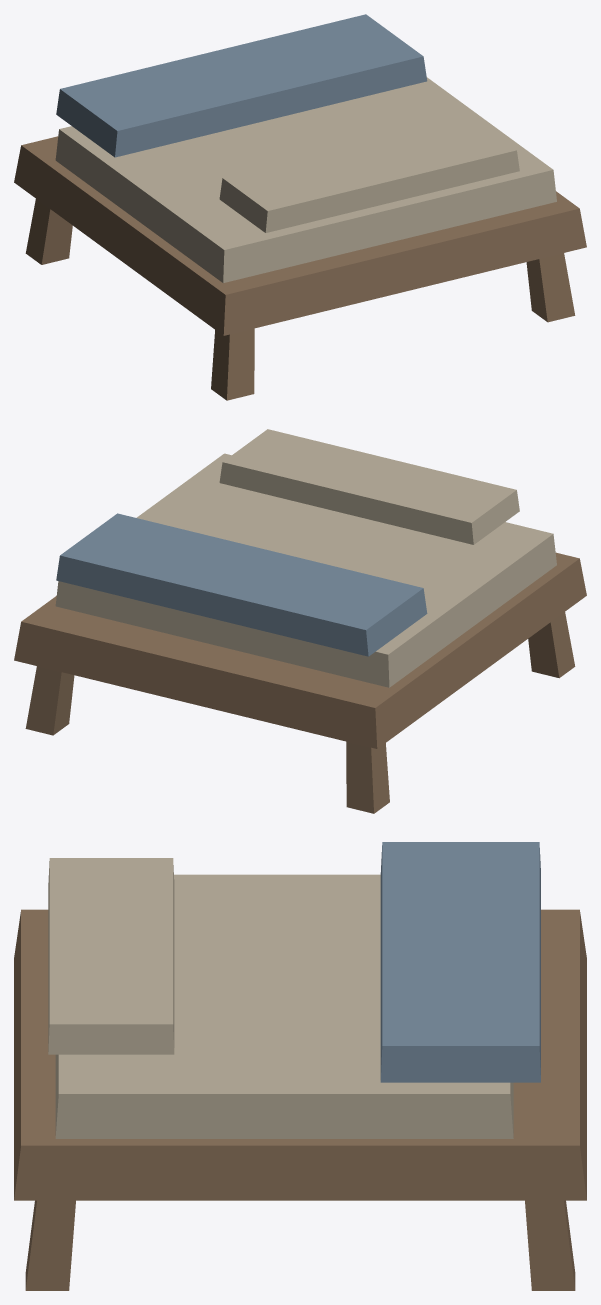
Rendered from basicbed_double_refined.glb.
3 renders of one model, top to bottom at view 1: azimuth 30°, elevation 25°; view 2: azimuth 150°, elevation 25°; view 3: azimuth 270°, elevation 25°, orthographic. The views are drawn at different scales.
Visible parts, largest first — view 1: part_5, part_4, part_6, part_7, part_1, part_3, part_0; view 2: part_5, part_4, part_6, part_7, part_0, part_2, part_1; view 3: part_5, part_4, part_6, part_7, part_2, part_3.
Part boxes in pixels (x1,y1,x2,y2): part_5: [55, 77, 556, 283]; part_4: [14, 136, 586, 335]; part_6: [56, 14, 427, 157]; part_7: [219, 117, 519, 232]; part_1: [211, 328, 254, 400]; part_3: [526, 253, 575, 322]; part_0: [25, 199, 72, 264]; part_5: [55, 453, 556, 687]; part_4: [14, 552, 586, 748]; part_6: [56, 513, 427, 656]; part_7: [219, 429, 519, 544]; part_0: [346, 741, 389, 813]; part_2: [25, 666, 74, 735]; part_1: [528, 612, 575, 678]; part_5: [55, 874, 513, 1138]; part_4: [14, 909, 586, 1200]; part_6: [380, 842, 540, 1082]; part_7: [48, 858, 174, 1054]; part_2: [525, 1200, 575, 1290]; part_3: [25, 1200, 75, 1290].
Size of the model in its own units: 1.8 by 0.81 by 1.8.
